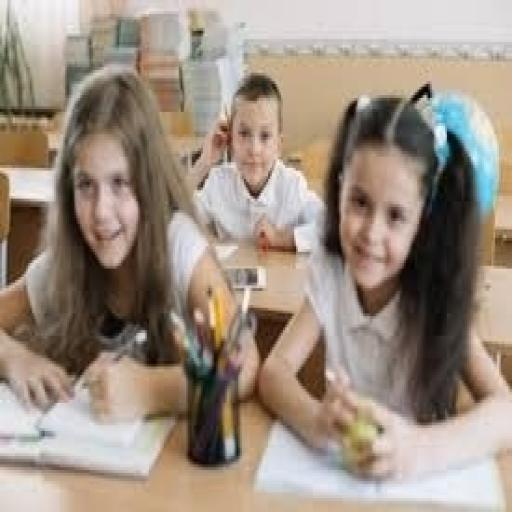sitting: (0, 59, 510, 478), (257, 81, 510, 479), (0, 61, 261, 417), (188, 70, 328, 255)
